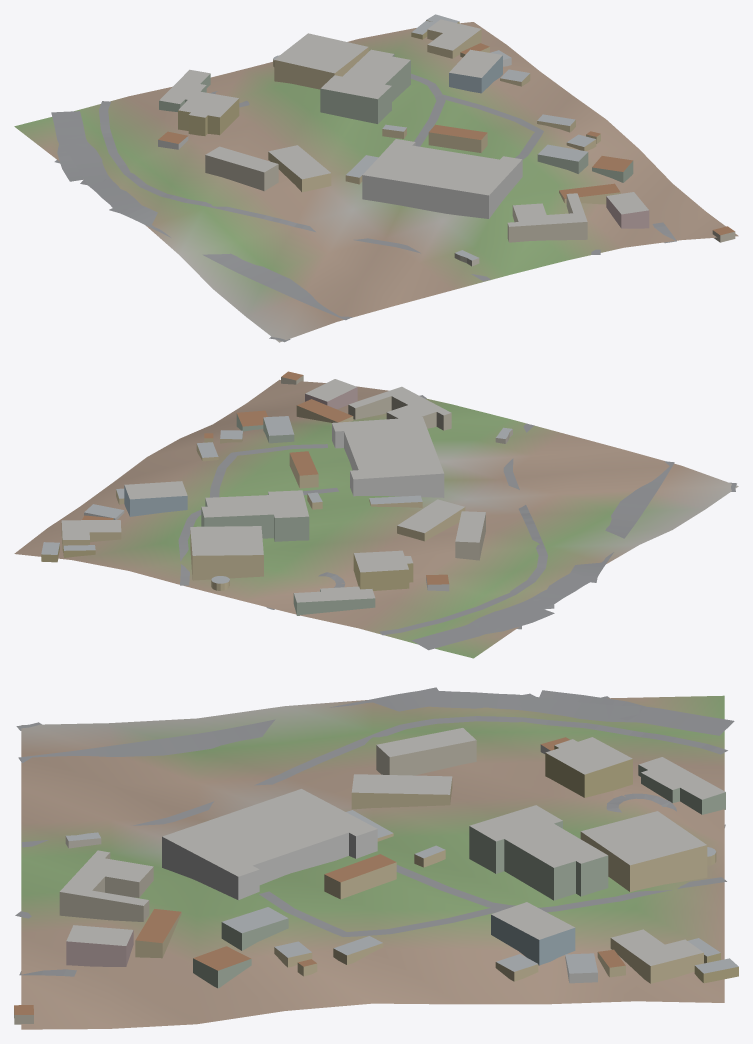
3 renders of one model, top to bottom at view 1: azimuth 30°, elevation 25°; view 2: azimuth 150°, elevation 25°; view 3: azimuth 270°, elevation 25°, orthographic. The views are drawn at different scales.
Visible parts, largest first — view 1: Lo; view 2: Lo; view 3: Lo.
Part boxes in pixels (left/top/right/bottom): Lo: left=14, top=14, right=738, bottom=342; Lo: left=14, top=371, right=738, bottom=658; Lo: left=14, top=687, right=738, bottom=1029.
Size of the model in its own units: 264 by 31.97 by 264.
